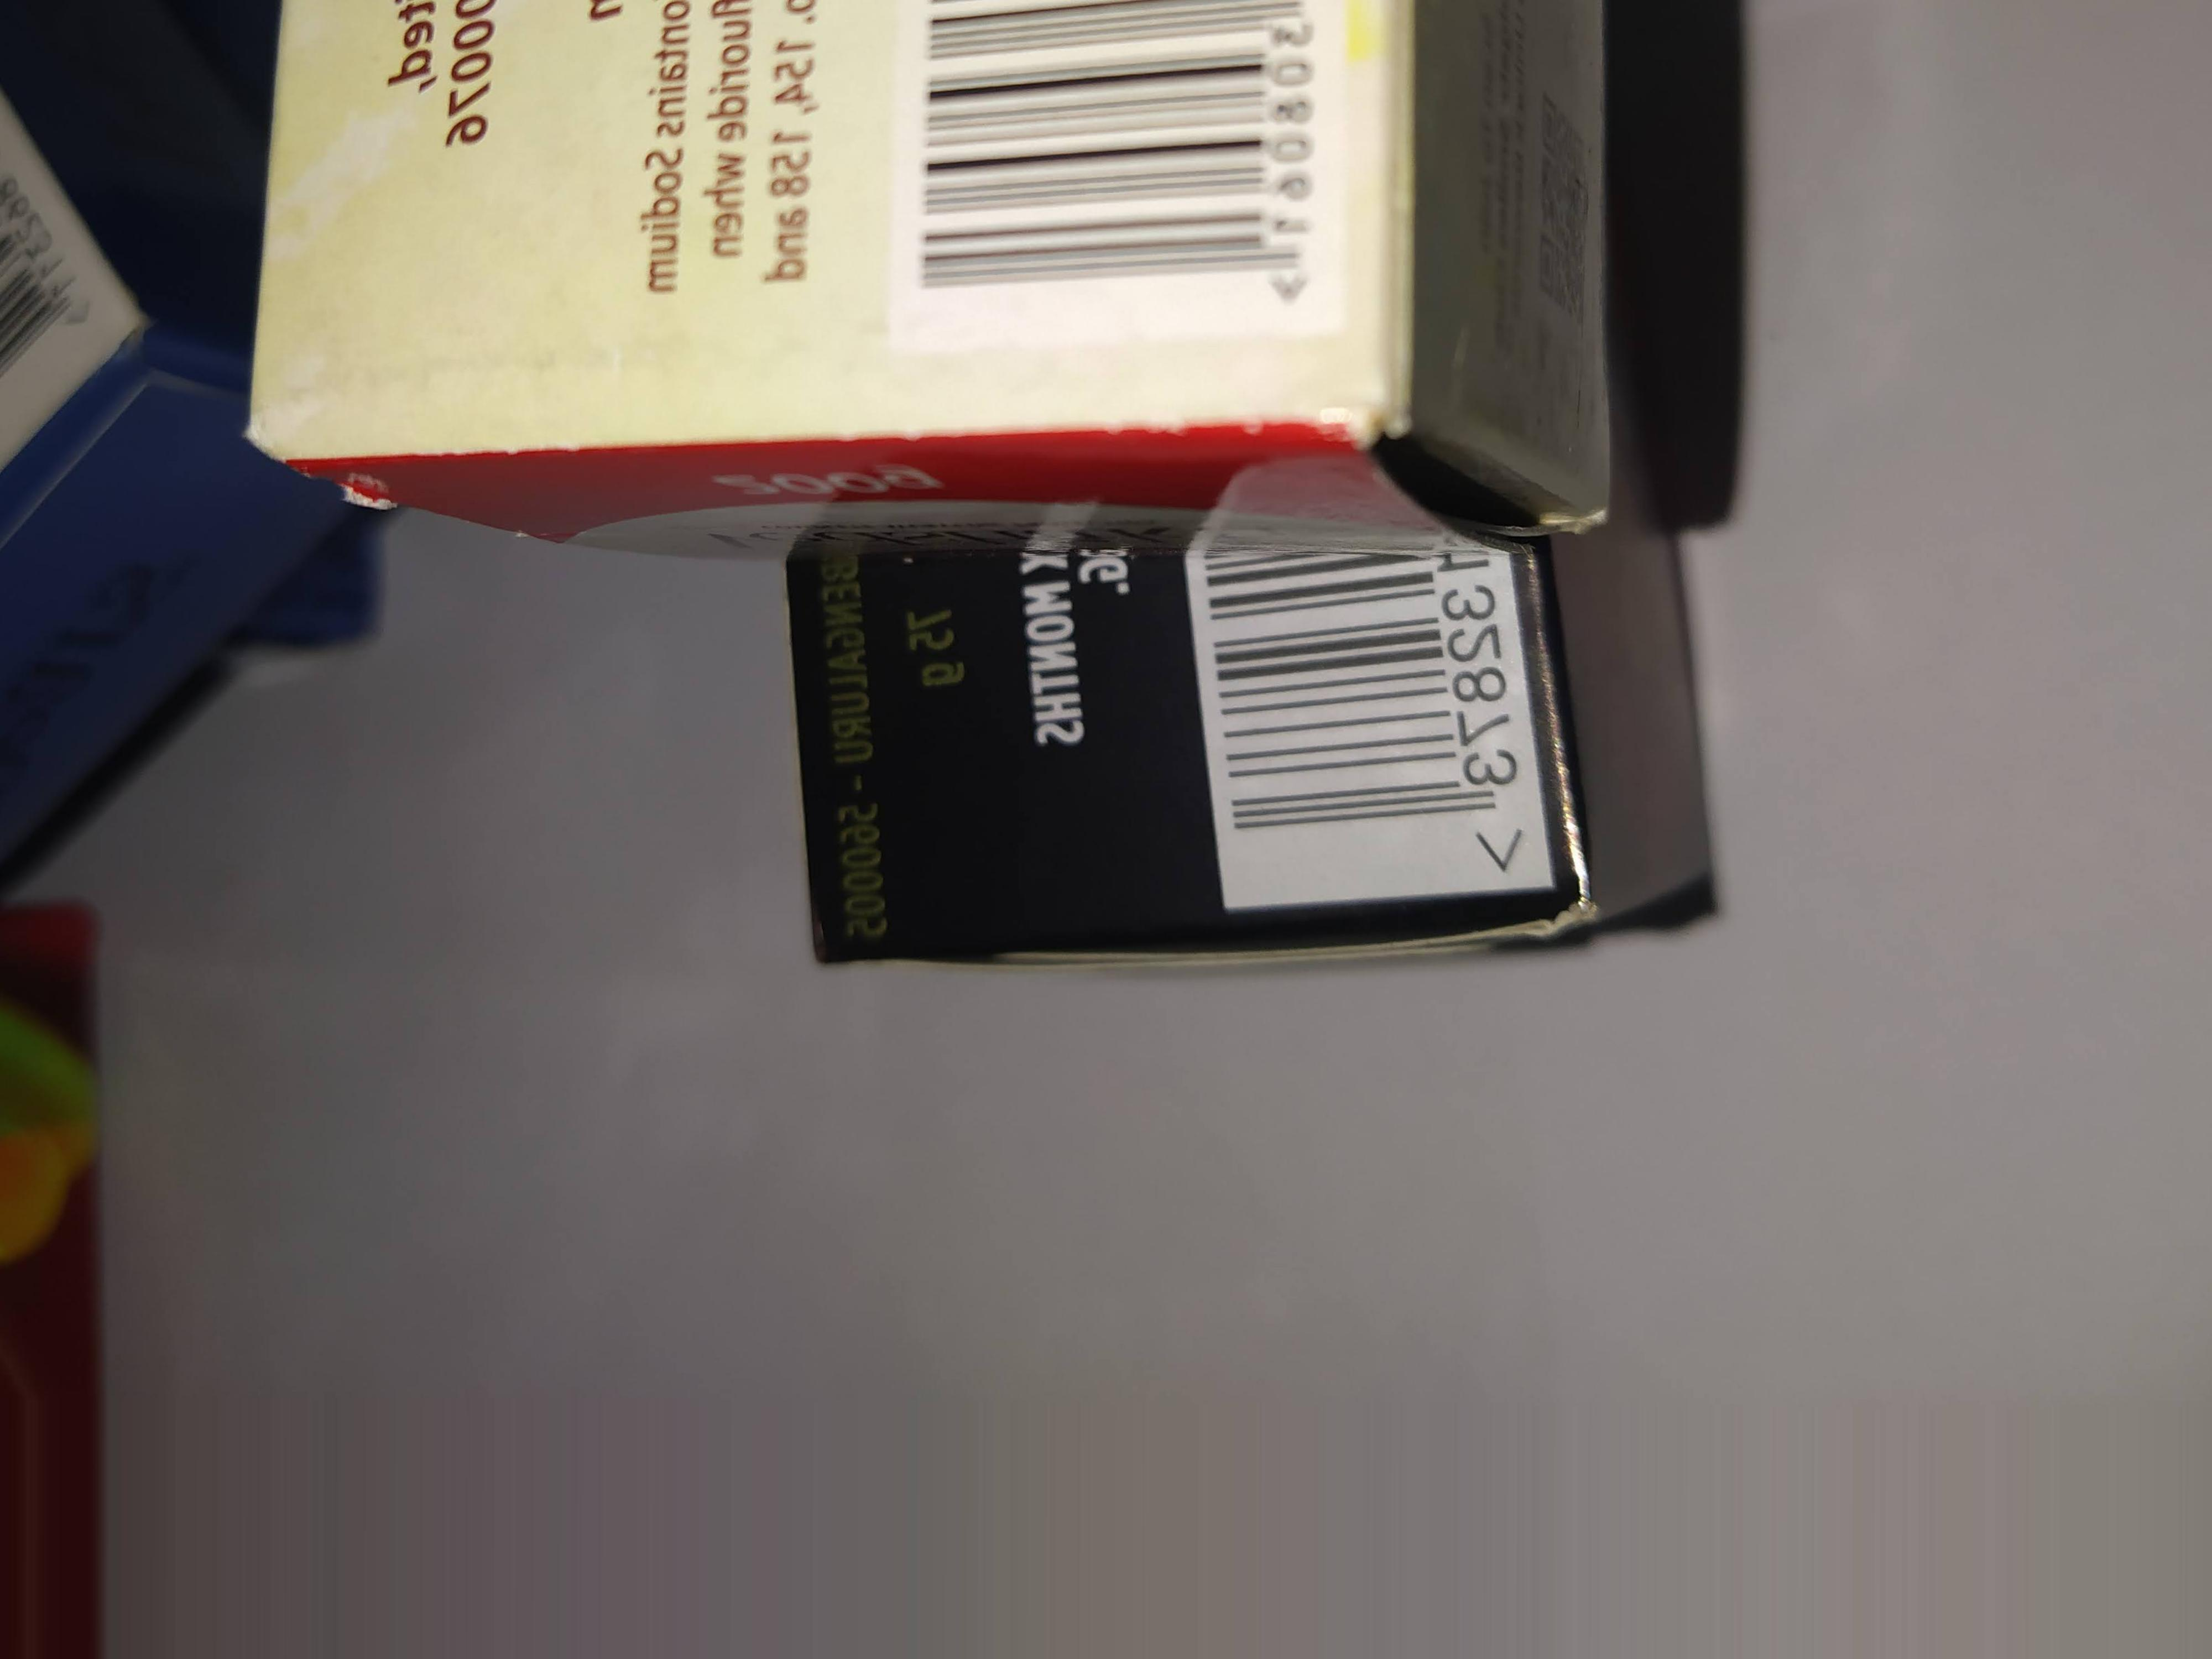Bar_code: (880, 0, 1346, 361), (1153, 538, 1575, 922)
Item: (197, 0, 1630, 568), (738, 521, 1935, 1051)
